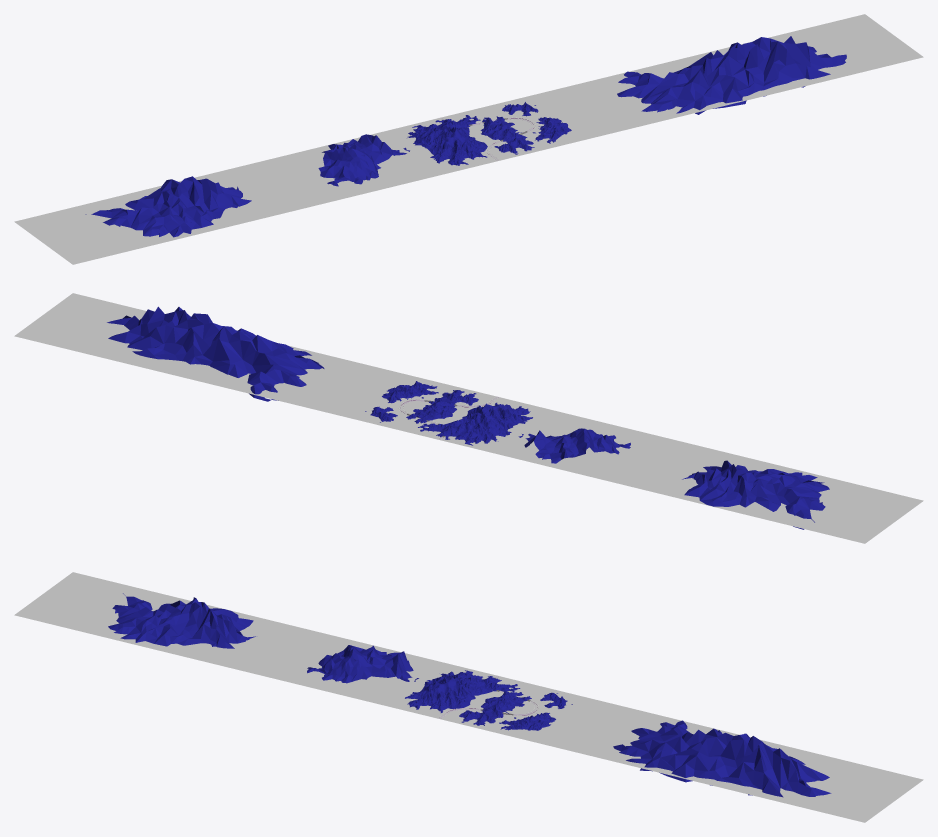
Rendered from Rock_1_COPY.FBX.
3 views of the same model, one above another, from view 1: azimuth 30°, elevation 25°; view 2: azimuth 150°, elevation 25°; view 3: azimuth 330°, elevation 25° (orthographic).
Visible parts, largest first — view 1: Plane029, Object002; view 2: Plane029, Object002; view 3: Plane029, Object002.
Boxes of the visible parts, left/top/right/bottom form: Plane029: left=14, top=14, right=923, bottom=264; Object002: left=85, top=36, right=846, bottom=237; Plane029: left=14, top=293, right=923, bottom=543; Object002: left=107, top=306, right=829, bottom=529; Plane029: left=14, top=572, right=923, bottom=822; Object002: left=108, top=593, right=831, bottom=797.
Bounding box in the file's own units: 20000 × 2456 × 947.
